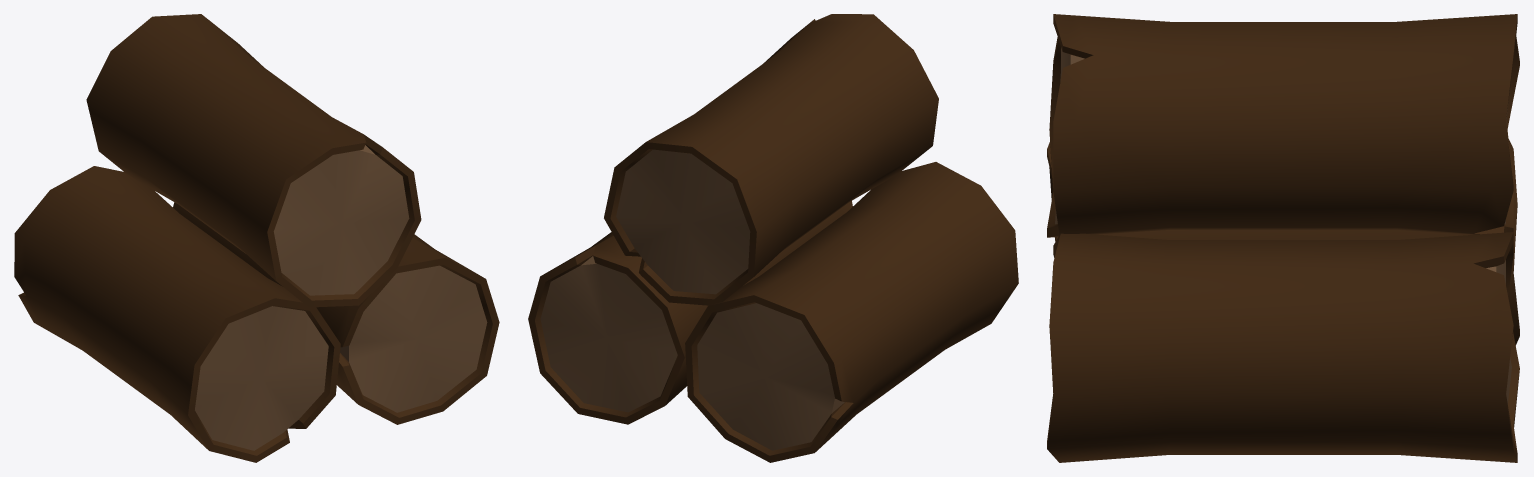
Rendered from LogPile.fbx.
3 views of the same model, side by side, from view 1: azimuth 30°, elevation 25°; view 2: azimuth 150°, elevation 25°; view 3: azimuth 270°, elevation 25° (orthographic). The views are drawn at different scales.
Parts seen in each view (by area): view 1: LogPile_Geo; view 2: LogPile_Geo; view 3: LogPile_Geo.
Part boxes in pixels (box(x1,y1,x2,y2)): LogPile_Geo: box(14, 14, 499, 462); LogPile_Geo: box(528, 14, 1018, 462); LogPile_Geo: box(1047, 14, 1519, 462).
Bounding box in the file's own units: 63.8 × 57.95 × 64.97.
